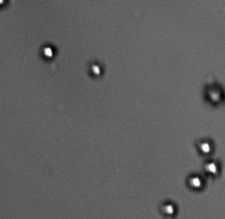Living Cell: (204, 81, 223, 106), (196, 135, 215, 156), (186, 171, 205, 192), (87, 59, 106, 79), (39, 42, 58, 61), (203, 158, 221, 177), (158, 199, 178, 216), (1, 1, 10, 9)
